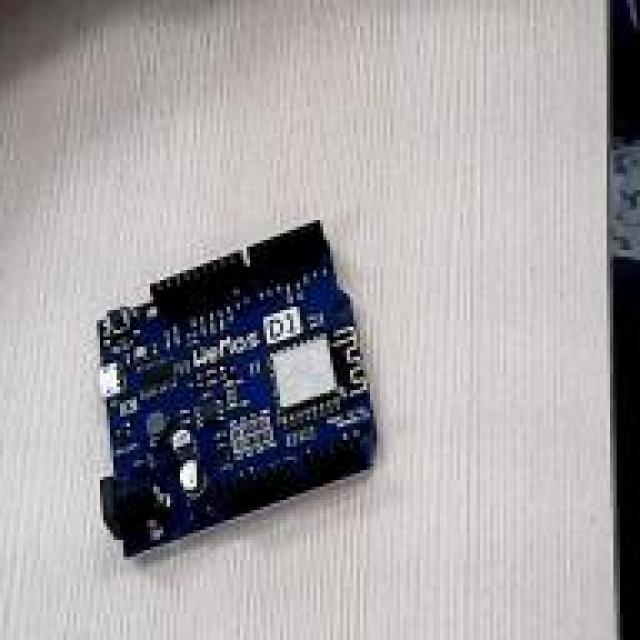Wemos: (98, 221, 374, 554)
